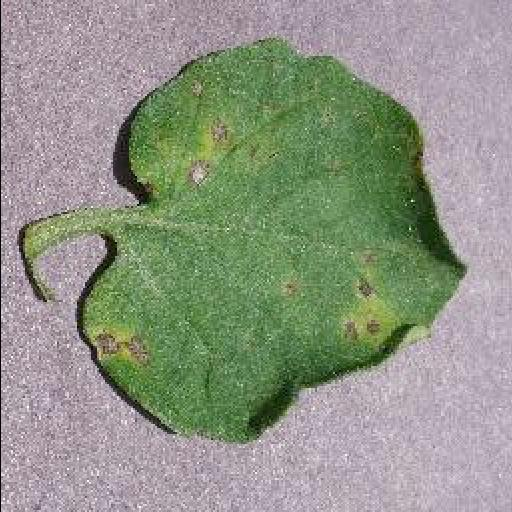disease_tomato: (82, 40, 468, 446)
